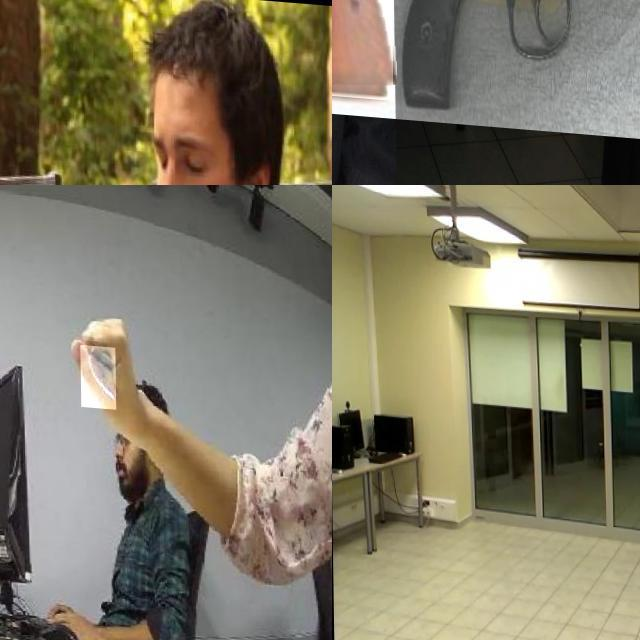-: (80, 338, 116, 403)
gun-knife-thesis - v11 Yolov5 augmented: (396, 0, 640, 156), (332, 0, 491, 160)
